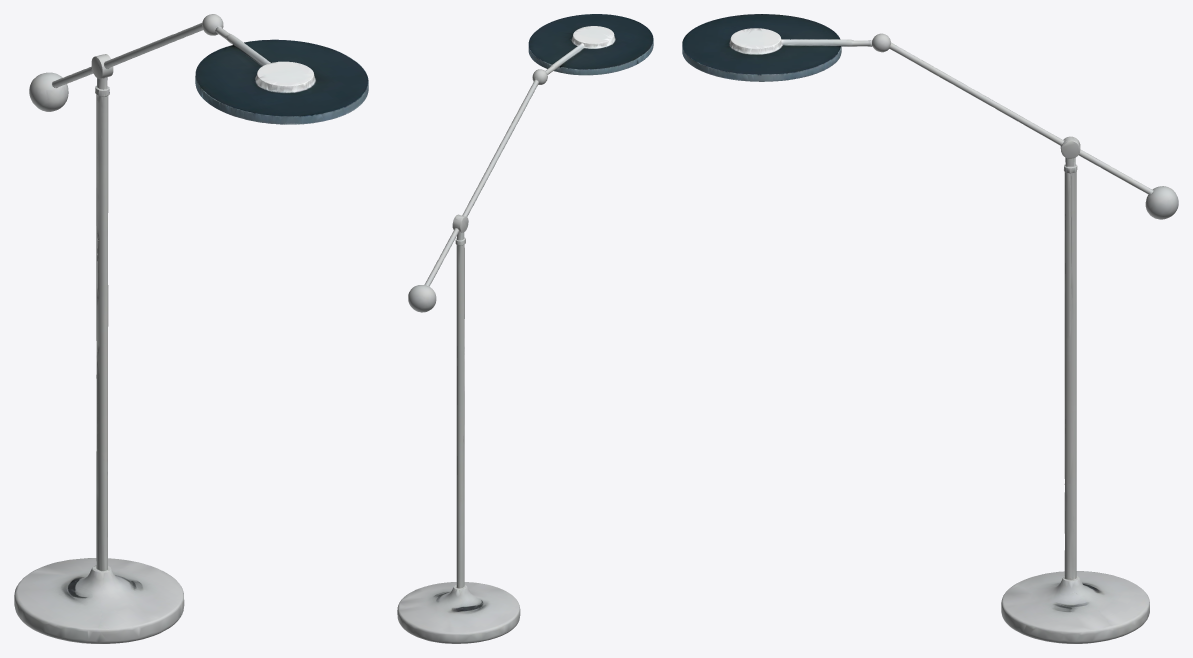
The model's file is lamp.glb.
3 renders of one model, left to right at view 1: azimuth 30°, elevation 25°; view 2: azimuth 150°, elevation 25°; view 3: azimuth 270°, elevation 25°, orthographic. The views are drawn at different scales.
Visible parts, largest first — view 1: model; view 2: model; view 3: model.
Part boxes in pixels (x1,y1,x2,y2): model: [14, 14, 368, 643]; model: [397, 14, 653, 643]; model: [682, 14, 1178, 643].
Bounding box in the file's own units: 0.431 × 1.9 × 1.47.
1 material, 1 textured.
